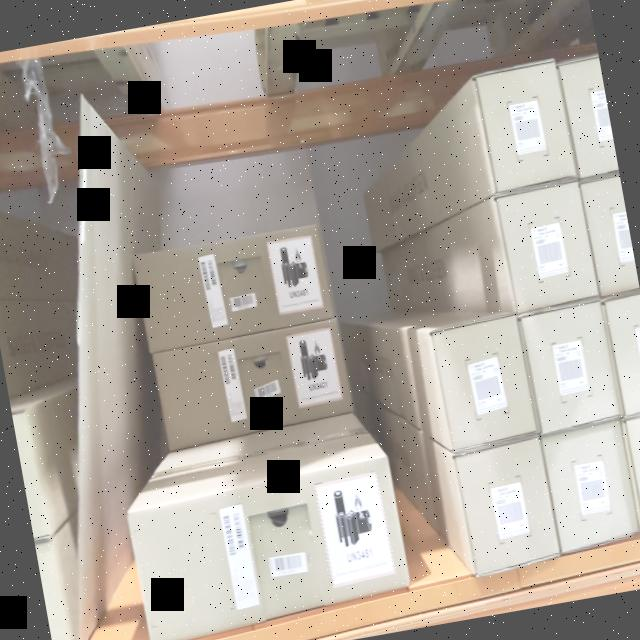box: (127, 464, 412, 638), (130, 221, 337, 356), (154, 323, 353, 450), (430, 312, 539, 453), (452, 433, 560, 567), (474, 60, 580, 196), (494, 181, 602, 313), (519, 298, 624, 431), (541, 420, 640, 547), (580, 167, 640, 301), (560, 56, 620, 182), (603, 289, 640, 417), (624, 407, 640, 533)
